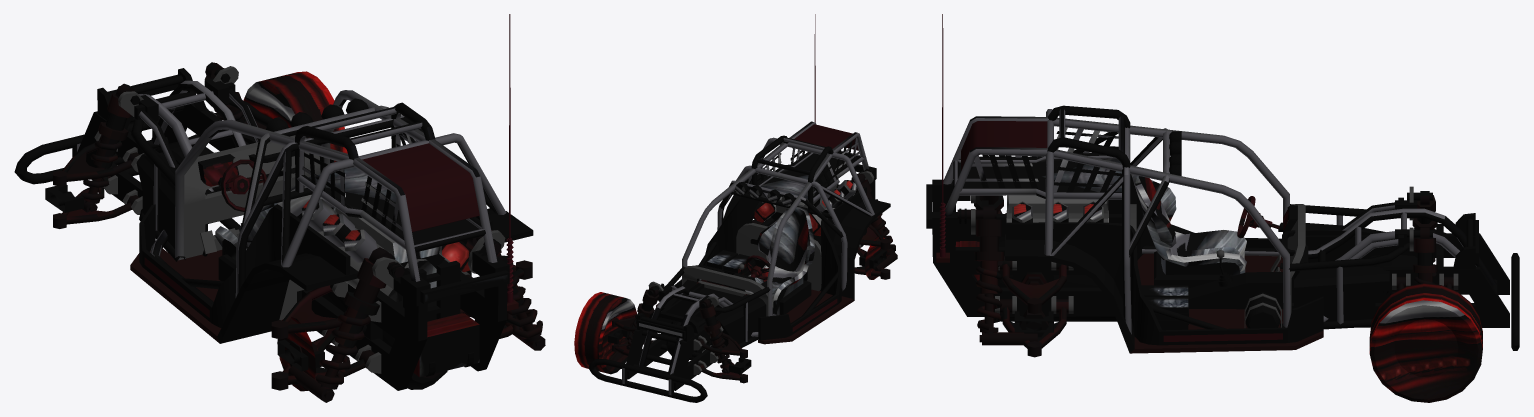
The model's file is buggy old.fbx.
3 renders of one model, left to right at view 1: azimuth 30°, elevation 25°; view 2: azimuth 150°, elevation 25°; view 3: azimuth 270°, elevation 25°, orthographic. The views are drawn at different scales.
Parts seen in each view (by area): view 1: body, tire; view 2: body, tire; view 3: body, tire.
Boxes of the visible parts, x1=… form: body: x1=14, y1=14, x2=545, y2=402; tire: x1=243, y1=71, x2=347, y2=162; body: x1=588, y1=14, x2=897, y2=402; tire: x1=574, y1=292, x2=636, y2=374; body: x1=926, y1=14, x2=1519, y2=357; tire: x1=1369, y1=283, x2=1482, y2=402.
Size of the model in its own units: 193 by 275 by 422.
